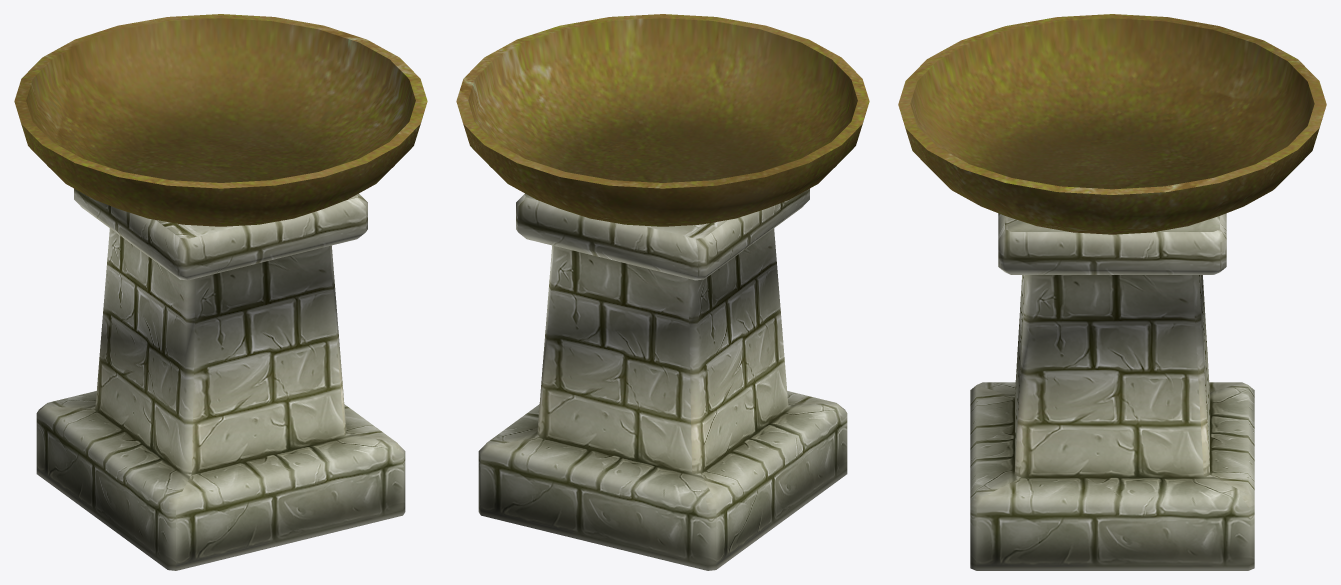
The model's file is aUKURAS.FBX.
3 renders of one model, left to right at view 1: azimuth 30°, elevation 25°; view 2: azimuth 150°, elevation 25°; view 3: azimuth 270°, elevation 25°, orthographic. The views are drawn at different scales.
Visible parts, largest first — view 1: Box004; view 2: Box004; view 3: Box004.
Part boxes in pixels (box(x1,y1,x2,y2)): Box004: box(14, 14, 427, 570); Box004: box(456, 14, 869, 570); Box004: box(898, 14, 1326, 570).
Size of the model in its own units: 1.05 by 1.1 by 1.05.
1 material, 1 textured.
